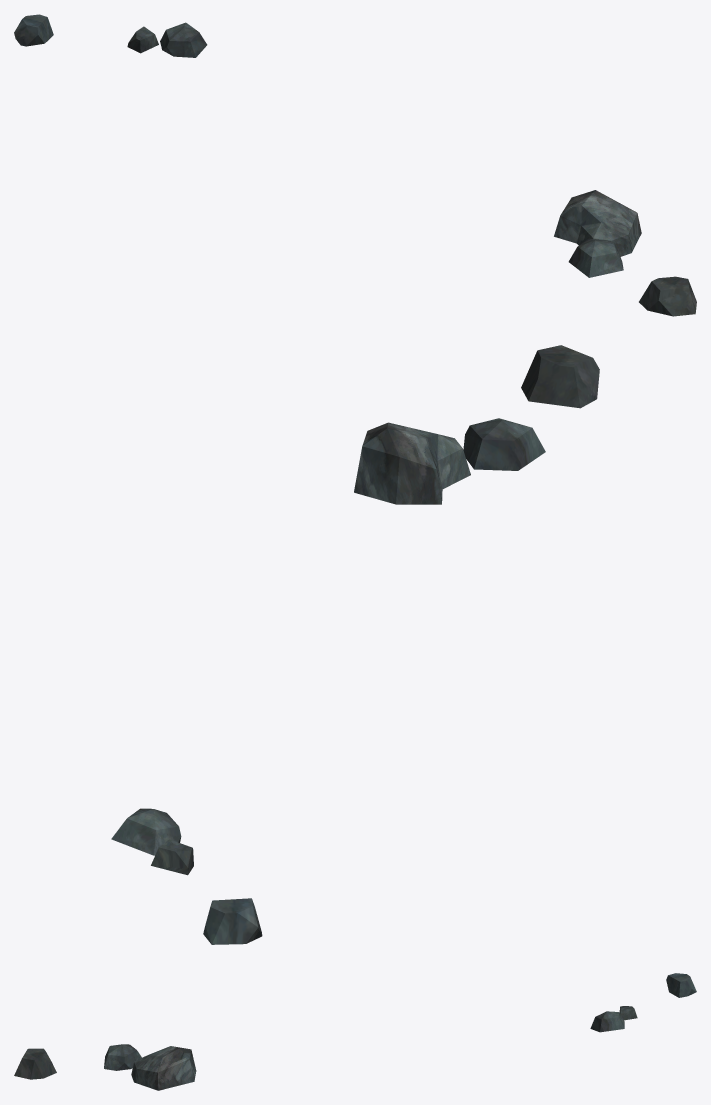
The model's file is object_rubble35.fbx.
3 views of the same model, one above another, from view 1: azimuth 30°, elevation 25°; view 2: azimuth 150°, elevation 25°; view 3: azimuth 270°, elevation 25° (orthographic). The views are drawn at different scales.
Parts seen in each view (by area): view 1: obj0.108; view 2: obj0.108; view 3: obj0.108.
Part boxes in pixels (left/top/right/bottom): obj0.108: left=14, top=14, right=696, bottom=316; obj0.108: left=111, top=345, right=599, bottom=944; obj0.108: left=14, top=973, right=696, bottom=1090.
Bounding box in the file's own units: 3.13 × 0.4568 × 8.77.
